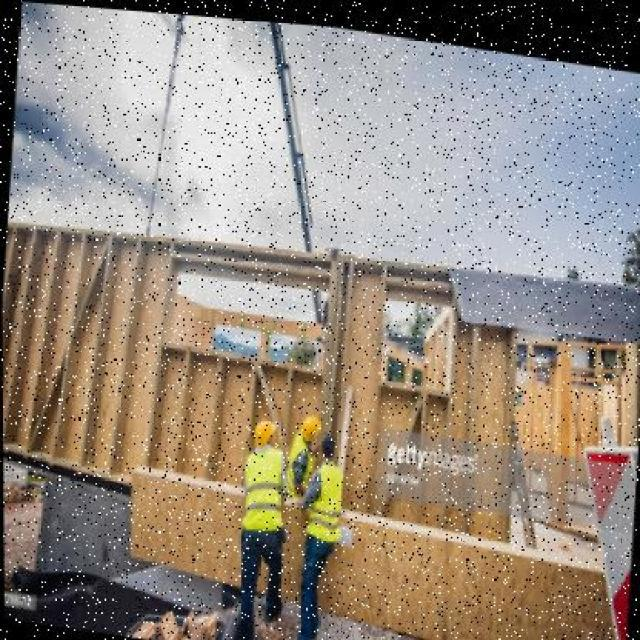vest: (243, 434, 288, 530), (306, 449, 350, 541)
